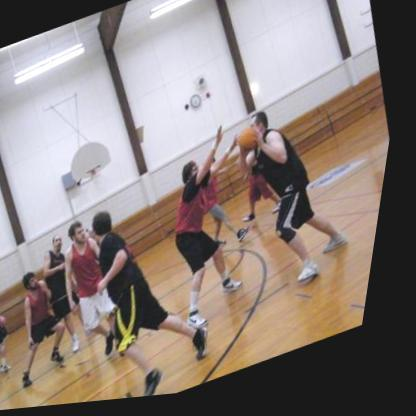basketball: (239, 131, 266, 159)
rim: (90, 166, 107, 178)
